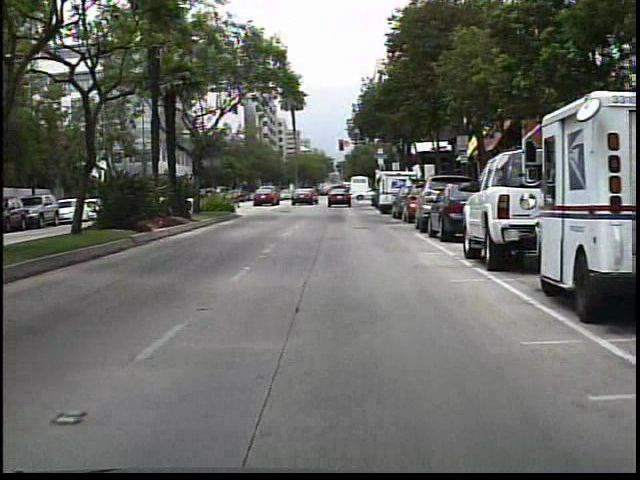person: (324, 181, 341, 204), (310, 184, 323, 205)
